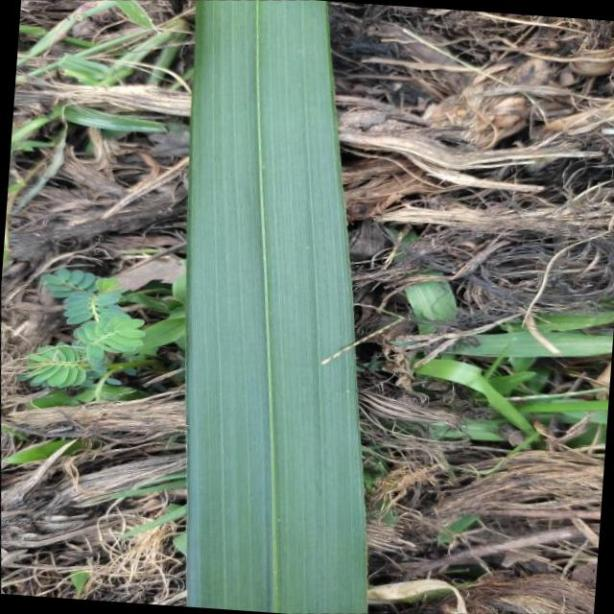Healthy: (187, 0, 368, 614)
